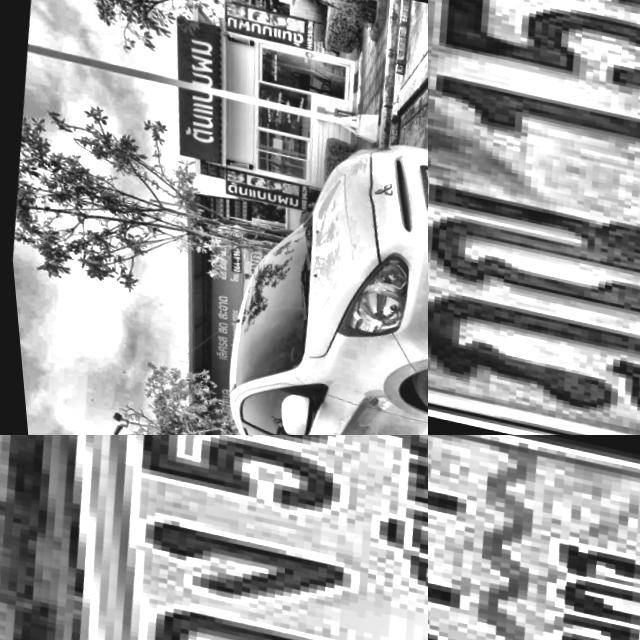license-plate: (428, 0, 640, 435), (0, 435, 428, 640), (428, 435, 640, 640), (408, 156, 428, 212)
